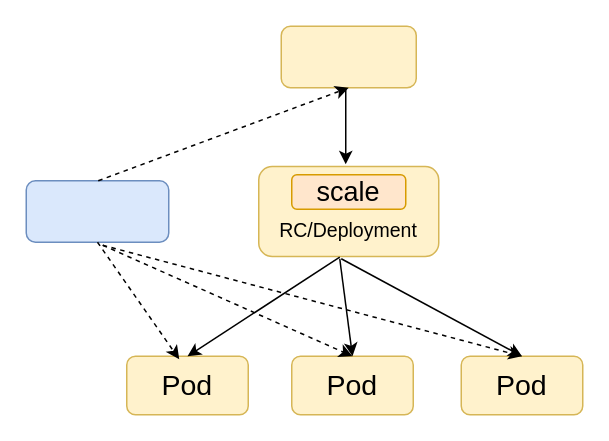
The diagram is 609 pixels wide and 441 high, and some of its shapes have lost their labels. The shapes that lost their labels are listed below. From the top down, each one's centre as x and y in pixels, then its label:
(348,56): HPA
(97,210): Metric server
